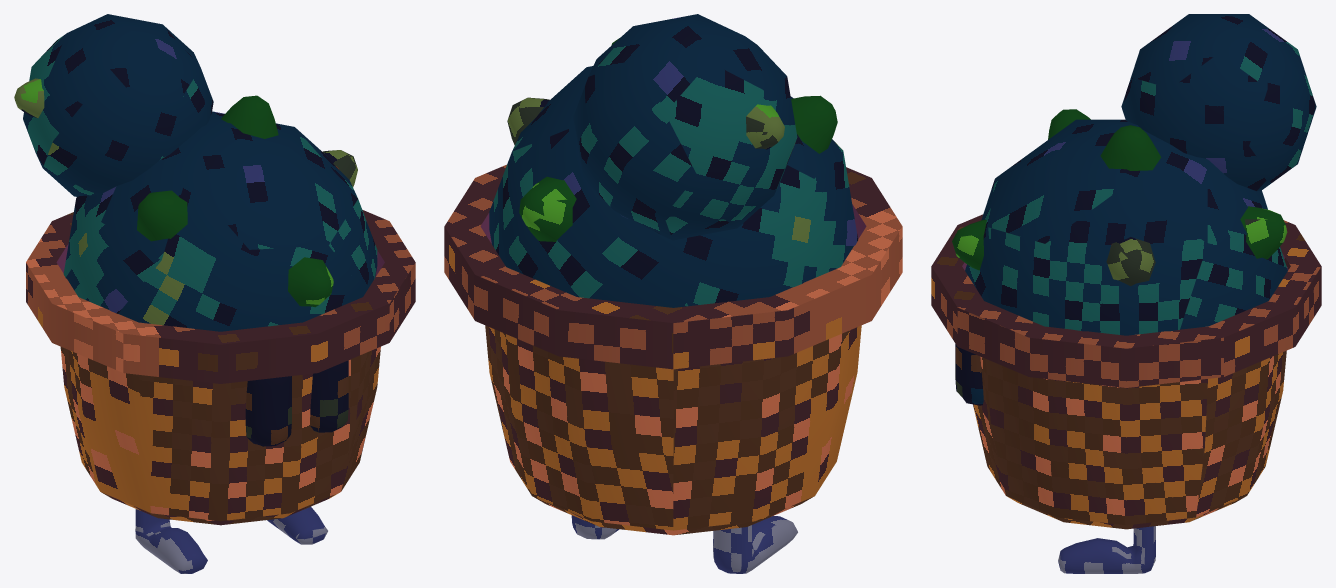
Rendered from creature-pixel-07.glb.
3 renders of one model, left to right at view 1: azimuth 30°, elevation 25°; view 2: azimuth 150°, elevation 25°; view 3: azimuth 270°, elevation 25°, orthographic. The views are drawn at different scales.
Visible parts, largest first — view 1: creature pixel 07; view 2: creature pixel 07; view 3: creature pixel 07.
Boxes of the visible parts, box(x1,y1,x2,y2) form: creature pixel 07: box(14, 14, 415, 573); creature pixel 07: box(444, 14, 902, 573); creature pixel 07: box(931, 14, 1321, 573).
Size of the model in its own units: 0.3166 by 0.4436 by 0.3166.
Materials: 1 (1 with a texture image).
